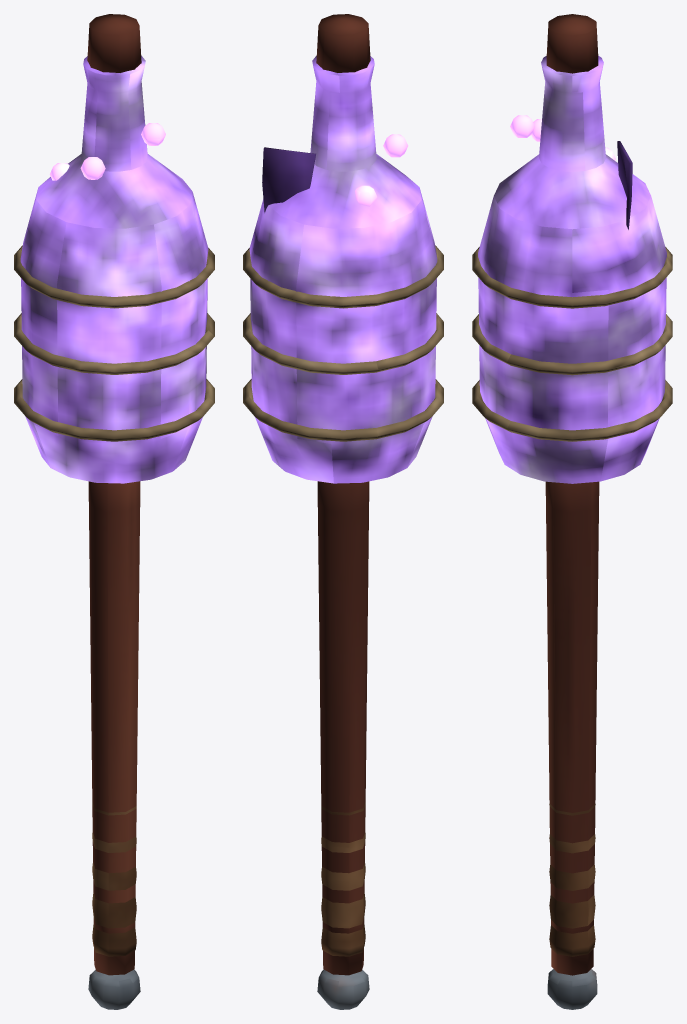
File: LavenderBottle.fbx
3 renders of one model, left to right at view 1: azimuth 30°, elevation 25°; view 2: azimuth 150°, elevation 25°; view 3: azimuth 270°, elevation 25°, orthographic.
Parts seen in each view (by area): view 1: LavenderBottle; view 2: LavenderBottle; view 3: LavenderBottle.
Boxes of the visible parts, x1,y1,x2,y2 form: LavenderBottle: (14, 14, 214, 1009); LavenderBottle: (243, 14, 443, 1009); LavenderBottle: (472, 14, 672, 1009).
Bounding box in the file's own units: 0.194 × 1.03 × 0.1911.
